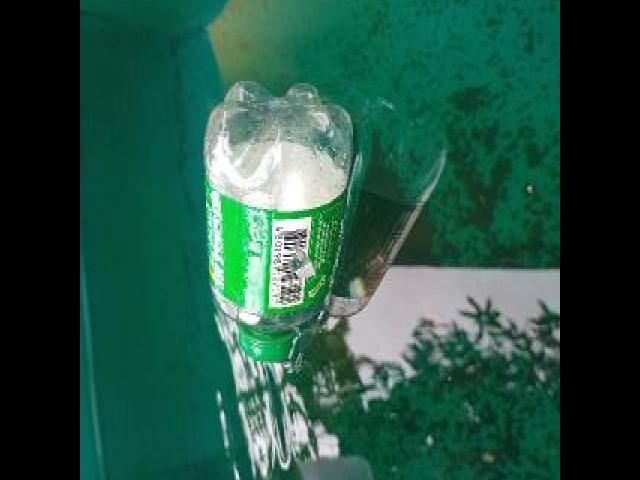Bottle: (194, 70, 362, 374)
